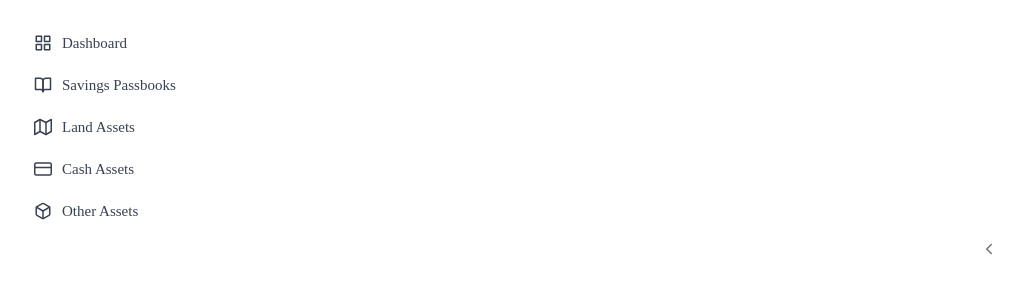
Test: Sidebar › collapse toggle › hides the labels when clicked and restores them on the next click
Expected: the number of elements with class "sidebar__label" is 5, 62,34 -> 127,52; 62,76 -> 176,94; 62,118 -> 135,136; 62,160 -> 134,178; 62,202 -> 138,220
Click the button with class "sidebar__toggle" at (989, 249), box 20,234 -> 1004,264
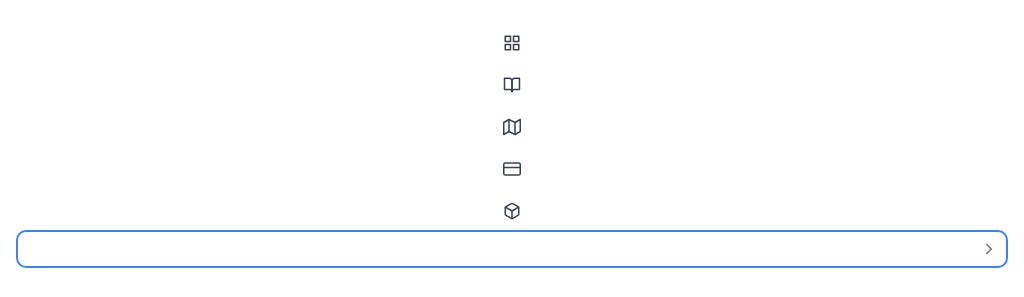
Now the button with class "sidebar__toggle" is collapsed
Click the button with class "sidebar__toggle" at (989, 249), box 20,234 -> 1004,264
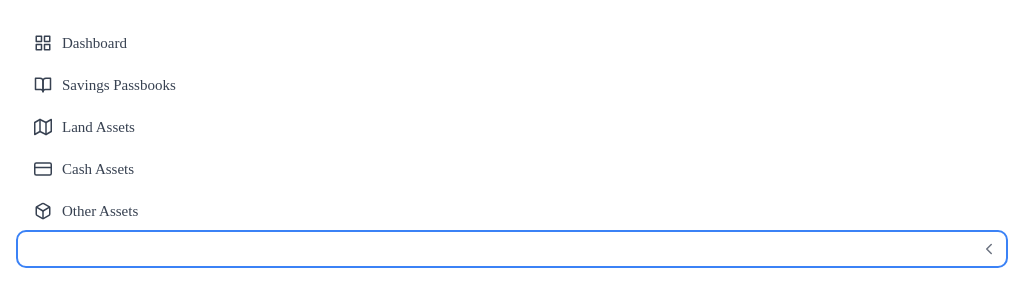
Now the button with class "sidebar__toggle" is expanded, box 20,234 -> 1004,264
